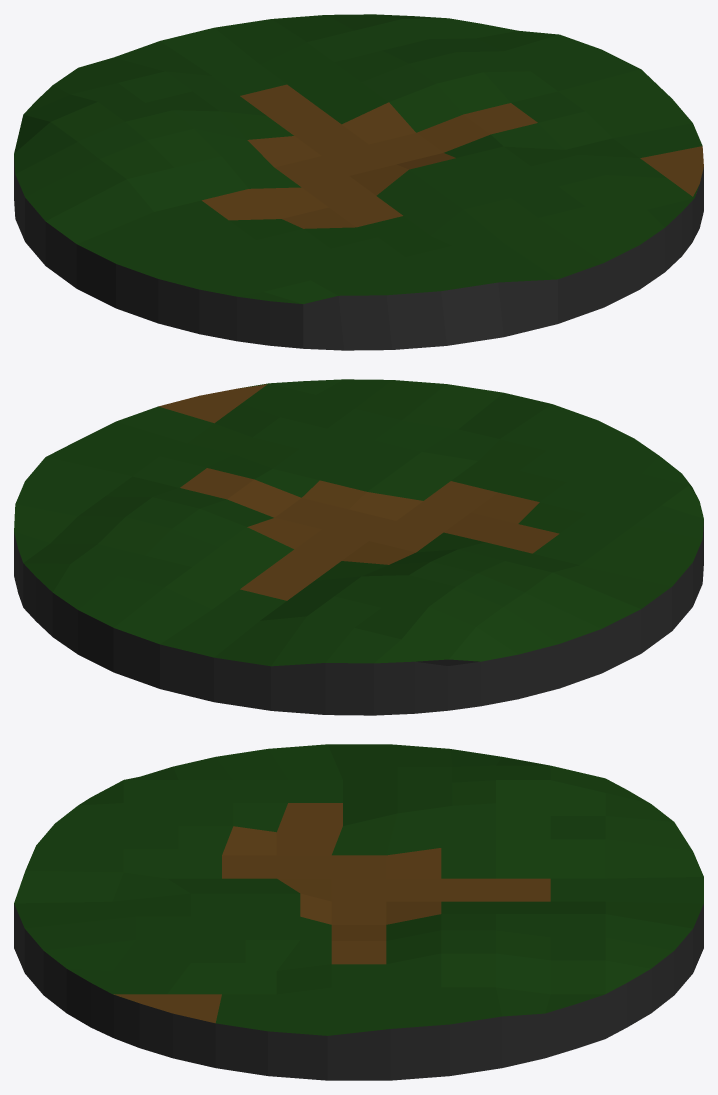
Rendered from ground_tutorial.obj.
3 views of the same model, one above another, from view 1: azimuth 30°, elevation 25°; view 2: azimuth 150°, elevation 25°; view 3: azimuth 270°, elevation 25° (orthographic).
Parts seen in each view (by area): view 1: Plane; view 2: Plane; view 3: Plane.
Part boxes in pixels (bbox=[...]): Plane: bbox=[14, 14, 703, 350]; Plane: bbox=[14, 379, 703, 715]; Plane: bbox=[14, 744, 703, 1080].
Bounding box in the file's own units: 113 × 13.31 × 113.
